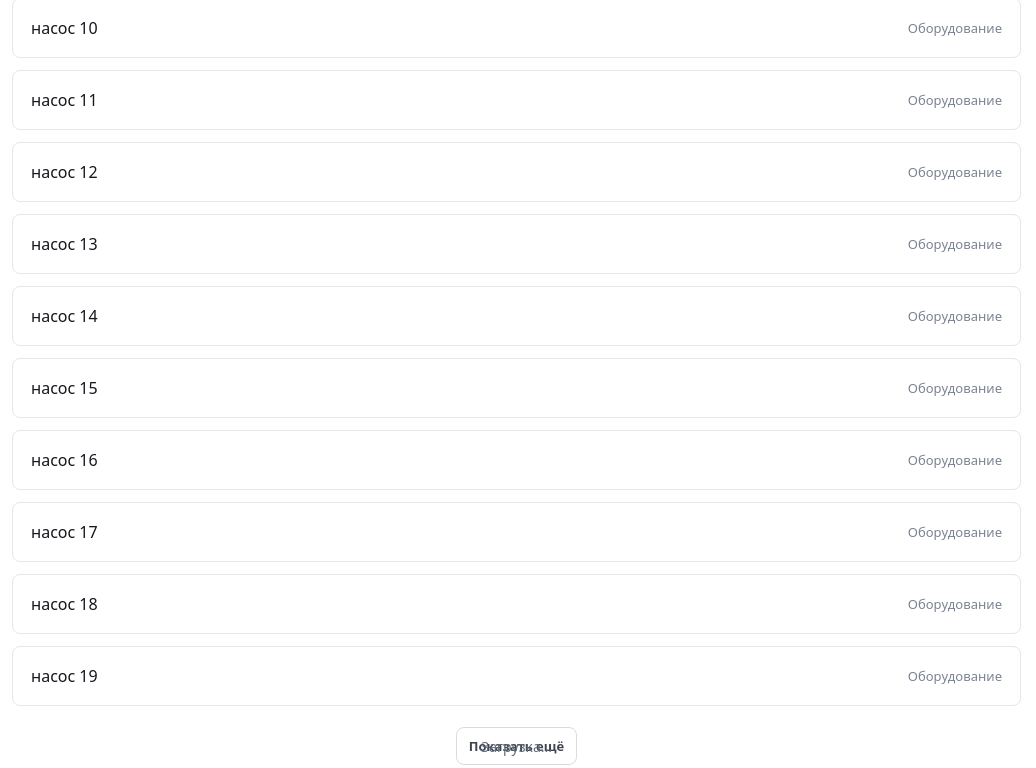
Test: retries a failed next page at the same offset without clearing cards
(page scrolled)
Click the button "Показать ещё" at (516, 746), box [456, 727, 577, 765]
(page scrolled)
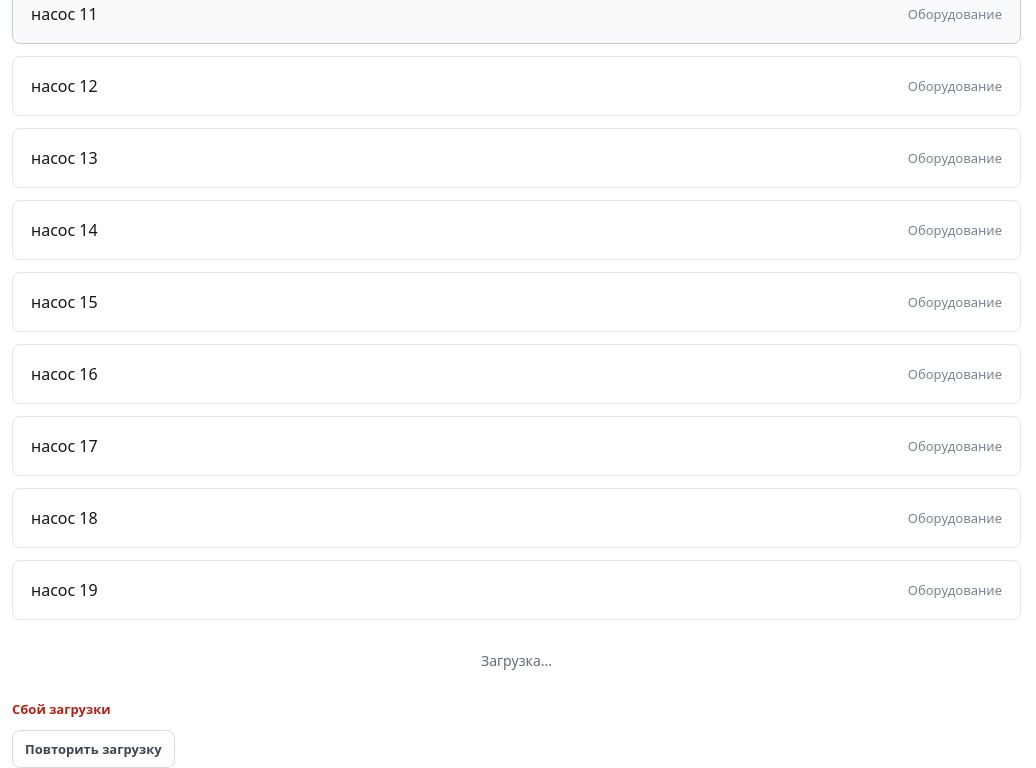
Check: the message "Сбой загрузки" is shown, box [12, 700, 111, 718]
Click the button "Повторить загрузку" at (93, 749), box [12, 730, 175, 767]
(page scrolled)
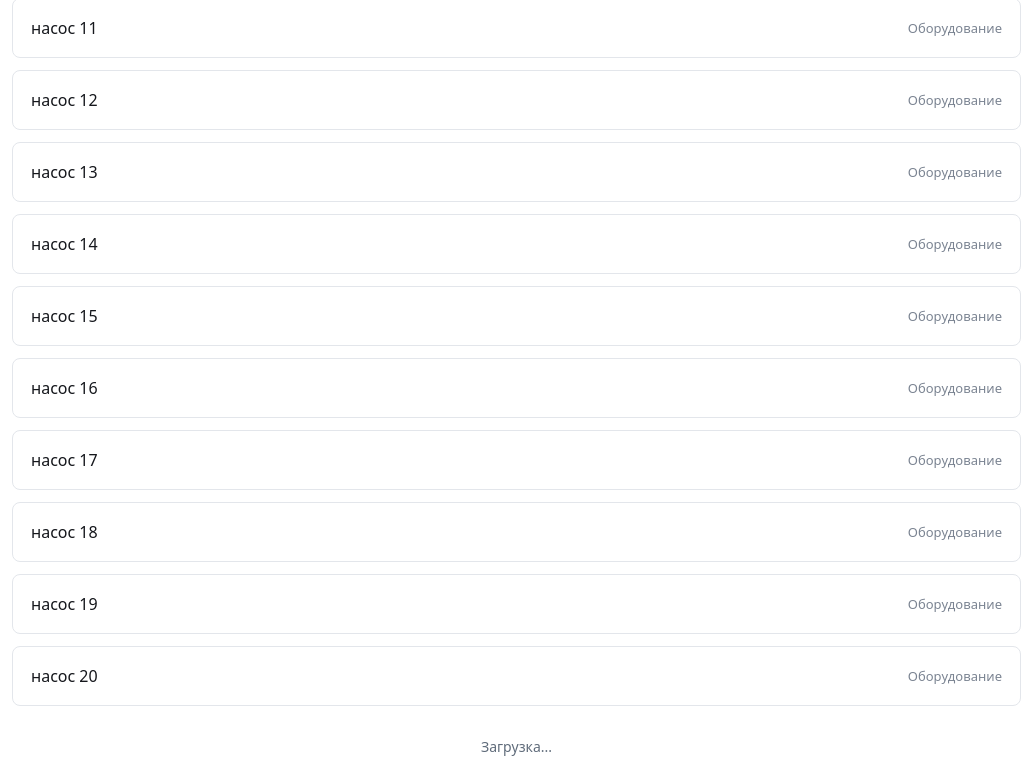
Check: the text "насос 20" is shown, box [31, 665, 98, 687]
